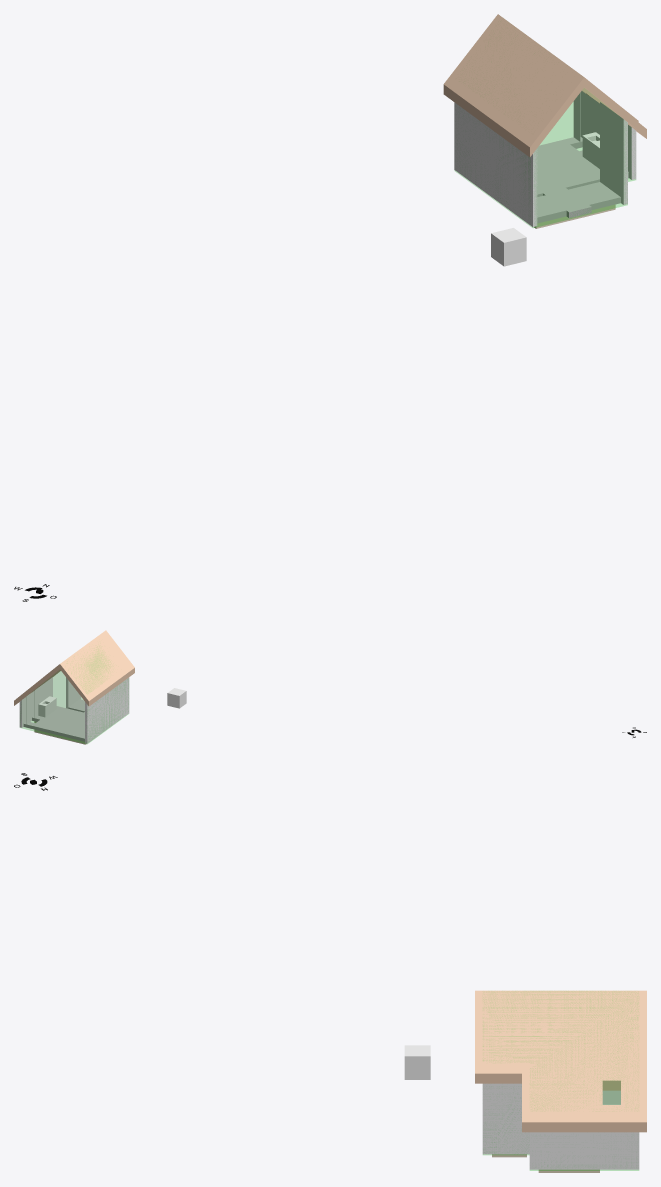
File: Building-Architecture.glb
The picture shows the model from 3 angles, top to bottom: view 1: azimuth 30°, elevation 25°; view 2: azimuth 150°, elevation 25°; view 3: azimuth 270°, elevation 25°; orthographic projection. The views are drawn at different scales.
Parts seen in each view (by area): view 1: product-2374b2d9-c86a-4697-bd1f-0941d8a2fd74-body, product-18a63ea0-988b-4969-9178-848ed977b351-body, product-fd6c02d8-3a65-4a35-b52f-c44462cf2d51-body, product-4a68ae33-91b6-41df-be94-04a42c5c605f-body, product-8f104696-d1c4-4375-8b96-fdc8f2d0c2e8-body, product-7c6475d2-c5af-45e1-af65-b18cdf3cf4f5-body, product-fa9e4e1f-4dd1-4fec-99f5-d5b3ac3742bf-body; view 2: product-2374b2d9-c86a-4697-bd1f-0941d8a2fd74-body, product-18a63ea0-988b-4969-9178-848ed977b351-body, product-fd6c02d8-3a65-4a35-b52f-c44462cf2d51-body, product-7c6475d2-c5af-45e1-af65-b18cdf3cf4f5-body, product-78705e69-8d9c-496c-866f-2a47e71c3cb1-body, product-8f104696-d1c4-4375-8b96-fdc8f2d0c2e8-body, product-fa9e4e1f-4dd1-4fec-99f5-d5b3ac3742bf-body, product-4279f631-13ae-4a4d-959e-3bb5278d5948-body, product-a8273aab-7939-4bd1-b12d-752c7661769d-body, product-4a68ae33-91b6-41df-be94-04a42c5c605f-body; view 3: product-4279f631-13ae-4a4d-959e-3bb5278d5948-body, product-fa9e4e1f-4dd1-4fec-99f5-d5b3ac3742bf-body, product-4a68ae33-91b6-41df-be94-04a42c5c605f-body, product-8f104696-d1c4-4375-8b96-fdc8f2d0c2e8-body.
Part boxes in pixels (x1,y1,x2,y2): product-2374b2d9-c86a-4697-bd1f-0941d8a2fd74-body: (443, 14, 584, 157); product-18a63ea0-988b-4969-9178-848ed977b351-body: (454, 102, 537, 226); product-fd6c02d8-3a65-4a35-b52f-c44462cf2d51-body: (537, 137, 628, 223); product-4a68ae33-91b6-41df-be94-04a42c5c605f-body: (600, 102, 627, 204); product-8f104696-d1c4-4375-8b96-fdc8f2d0c2e8-body: (491, 228, 526, 266); product-7c6475d2-c5af-45e1-af65-b18cdf3cf4f5-body: (454, 102, 635, 227); product-fa9e4e1f-4dd1-4fec-99f5-d5b3ac3742bf-body: (580, 91, 636, 179); product-2374b2d9-c86a-4697-bd1f-0941d8a2fd74-body: (60, 630, 134, 706); product-18a63ea0-988b-4969-9178-848ed977b351-body: (85, 677, 129, 743); product-fd6c02d8-3a65-4a35-b52f-c44462cf2d51-body: (23, 699, 84, 741); product-7c6475d2-c5af-45e1-af65-b18cdf3cf4f5-body: (20, 671, 126, 743); product-78705e69-8d9c-496c-866f-2a47e71c3cb1-body: (26, 677, 52, 724); product-8f104696-d1c4-4375-8b96-fdc8f2d0c2e8-body: (167, 688, 186, 708); product-fa9e4e1f-4dd1-4fec-99f5-d5b3ac3742bf-body: (19, 691, 34, 727); product-4279f631-13ae-4a4d-959e-3bb5278d5948-body: (14, 664, 60, 705); product-a8273aab-7939-4bd1-b12d-752c7661769d-body: (38, 696, 56, 717); product-4a68ae33-91b6-41df-be94-04a42c5c605f-body: (66, 677, 80, 708); product-4279f631-13ae-4a4d-959e-3bb5278d5948-body: (475, 990, 646, 1132); product-fa9e4e1f-4dd1-4fec-99f5-d5b3ac3742bf-body: (529, 1132, 639, 1169); product-4a68ae33-91b6-41df-be94-04a42c5c605f-body: (482, 1083, 529, 1154); product-8f104696-d1c4-4375-8b96-fdc8f2d0c2e8-body: (404, 1045, 430, 1079).
Bounding box in the file's own units: 38.54 × 7 × 24.29.
